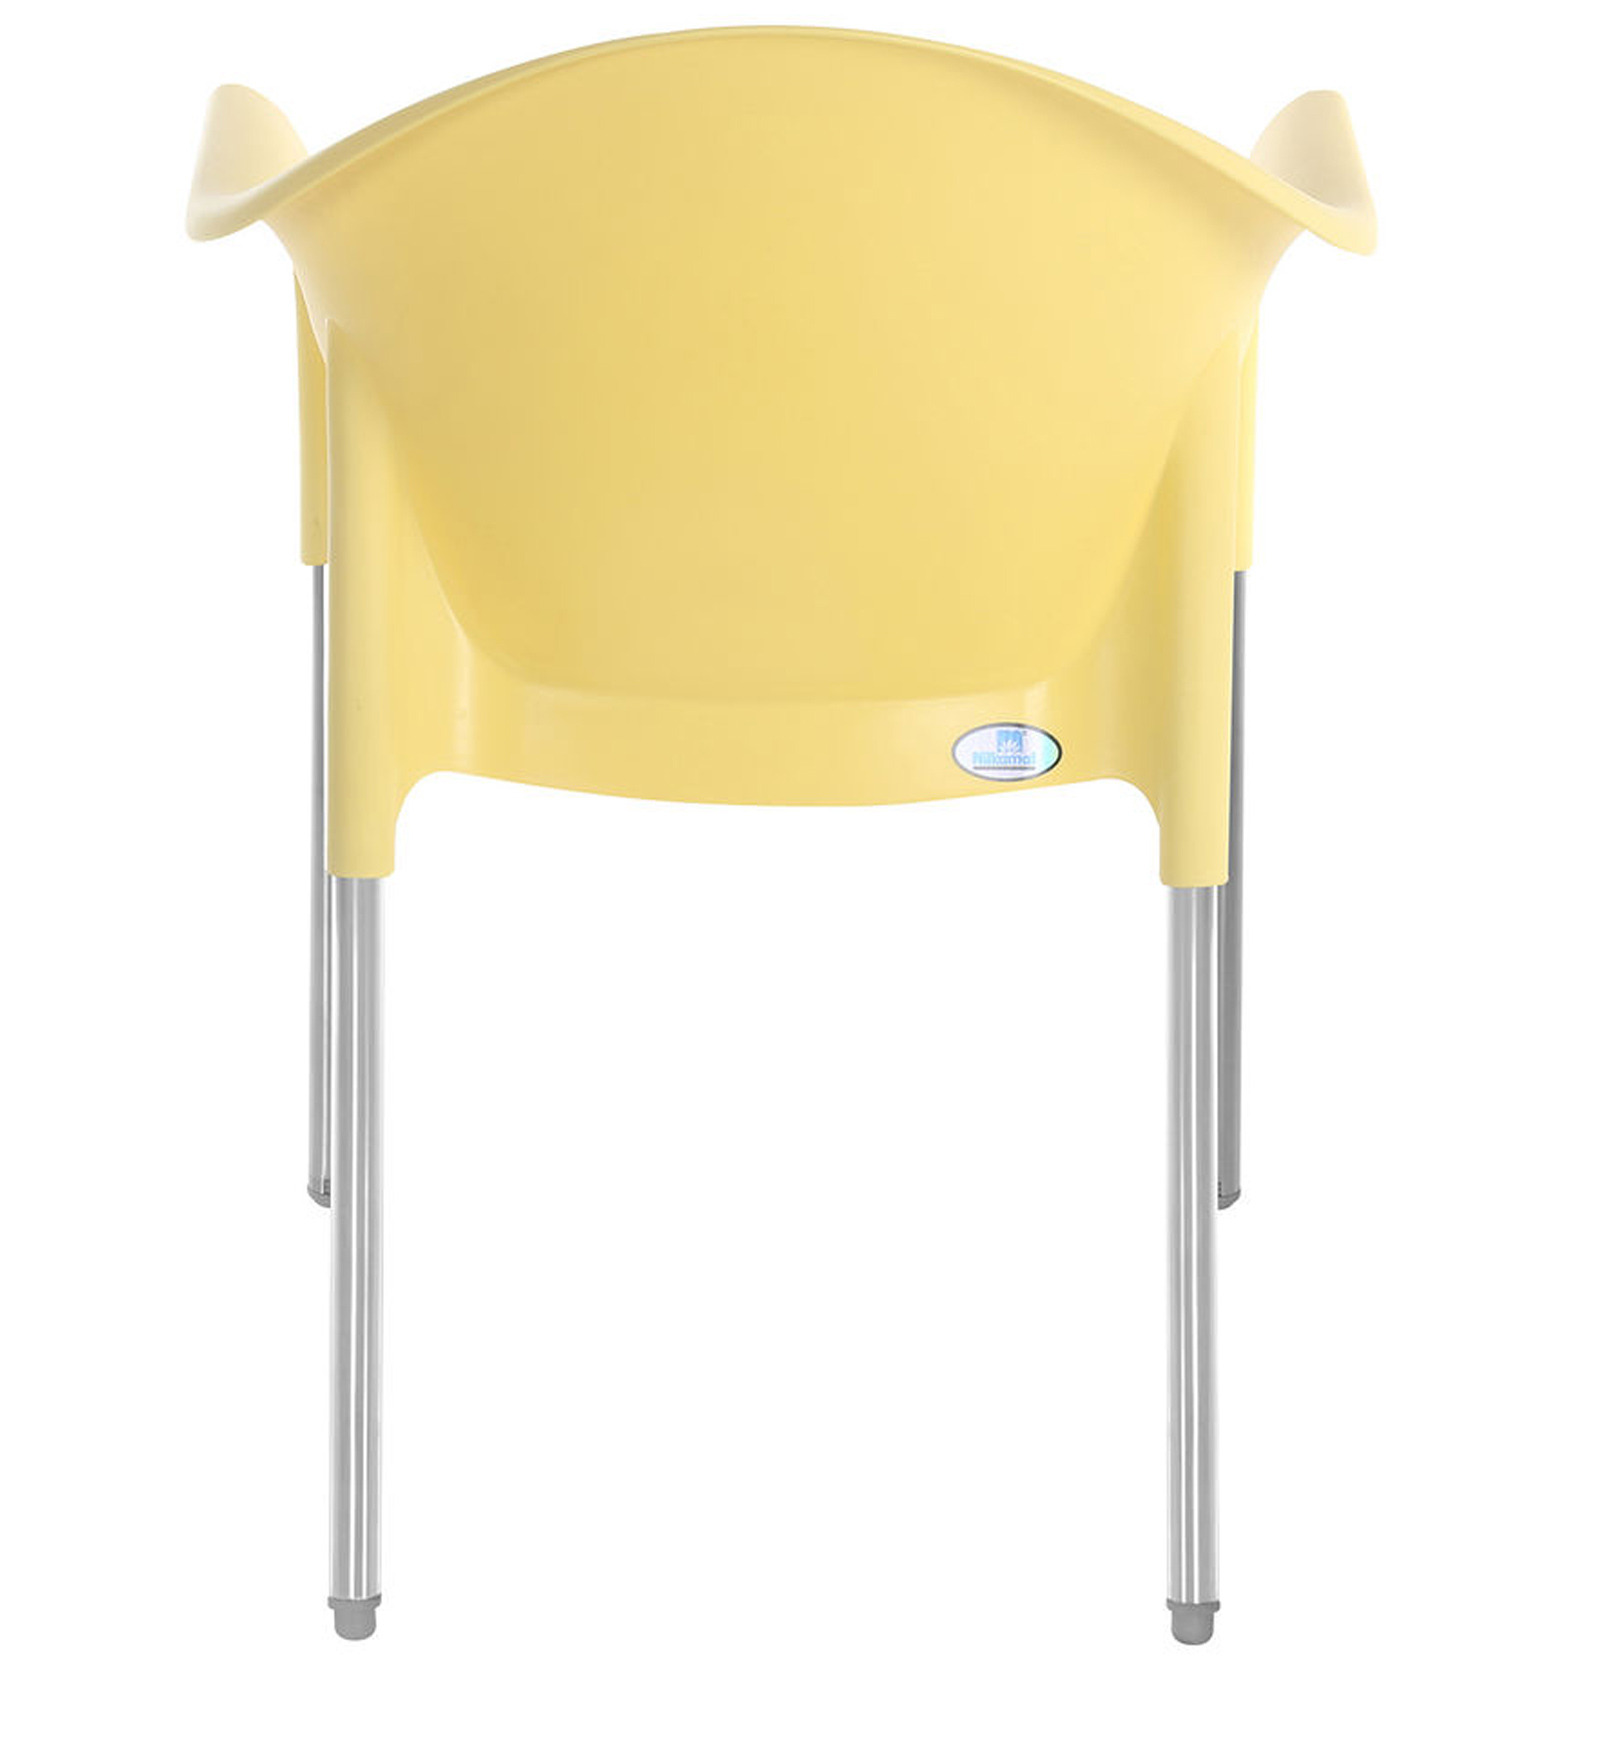Novella 09 Stainless Steel Chair in Yellow Colour by Nilkamal: (182, 25, 1382, 1650)
